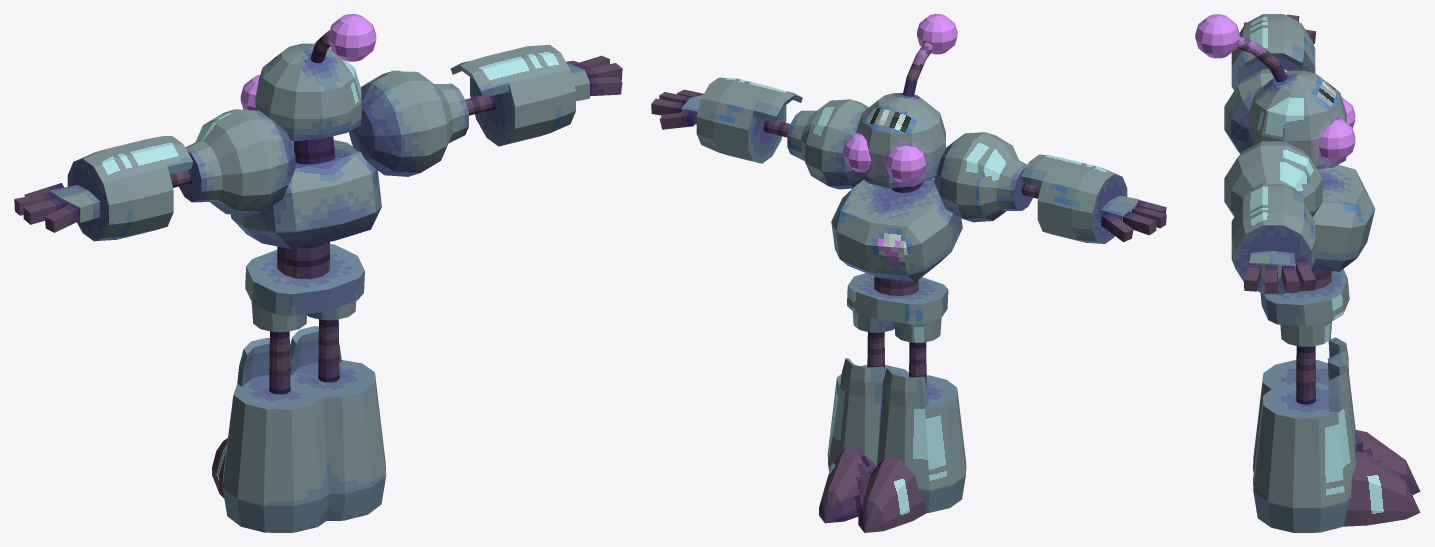
The model's file is SLIC-R.gltf.
3 views of the same model, side by side, from view 1: azimuth 30°, elevation 25°; view 2: azimuth 150°, elevation 25°; view 3: azimuth 270°, elevation 25° (orthographic). The views are drawn at different scales.
Visible parts, largest first — view 1: cylinder (×11), beveled_cuboid (×2), shoulder_right, head, shoulder_left, sphere, cuboid; view 2: cylinder (×12), beveled_cuboid (×2), cone (×2), head, shoulder_left, shoulder_right, sphere (×3); view 3: cylinder (×8), beveled_cuboid (×2), head, cone (×2), shoulder_right, sphere (×2), cuboid (×5), shoulder_left.
Boxes of the visible parts, x1=… form: cylinder (×11): x1=67, y1=45, x2=575, y2=532; beveled_cuboid (×2): x1=230, y1=140, x2=381, y2=316; shoulder_right: x1=349, y1=70, x2=452, y2=176; head: x1=255, y1=43, x2=361, y2=141; shoulder_left: x1=195, y1=109, x2=295, y2=215; sphere: x1=328, y1=14, x2=376, y2=61; cuboid: x1=50, y1=185, x2=100, y2=222; cylinder (×12): x1=696, y1=42, x2=1127, y2=512; beveled_cuboid (×2): x1=831, y1=178, x2=962, y2=324; cone (×2): x1=819, y1=446, x2=926, y2=532; head: x1=856, y1=93, x2=945, y2=188; shoulder_left: x1=934, y1=132, x2=1018, y2=222; shoulder_right: x1=801, y1=99, x2=868, y2=189; sphere (×3): x1=843, y1=14, x2=957, y2=182; cylinder (×8): x1=1231, y1=14, x2=1355, y2=532; beveled_cuboid (×2): x1=1260, y1=165, x2=1375, y2=326; head: x1=1248, y1=70, x2=1346, y2=168; cone (×2): x1=1343, y1=429, x2=1420, y2=526; shoulder_right: x1=1224, y1=141, x2=1322, y2=216; sphere (×2): x1=1195, y1=14, x2=1355, y2=162; cuboid (×5): x1=1244, y1=251, x2=1315, y2=293; shoulder_left: x1=1224, y1=69, x2=1288, y2=153.
Bounding box in the file's own units: 3.05 × 2.58 × 1.08.
Materials: 1 (1 with a texture image).
